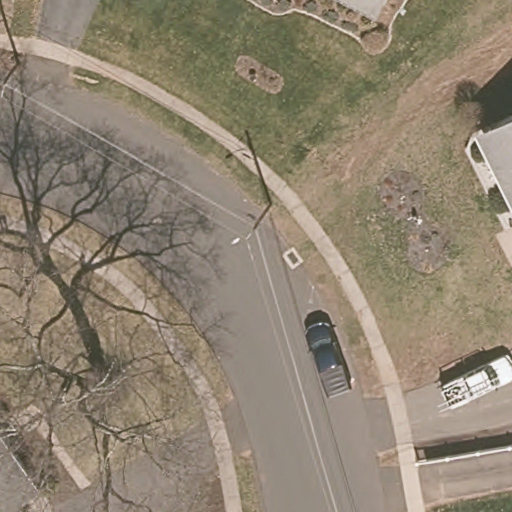DT: (243, 202, 274, 241)
